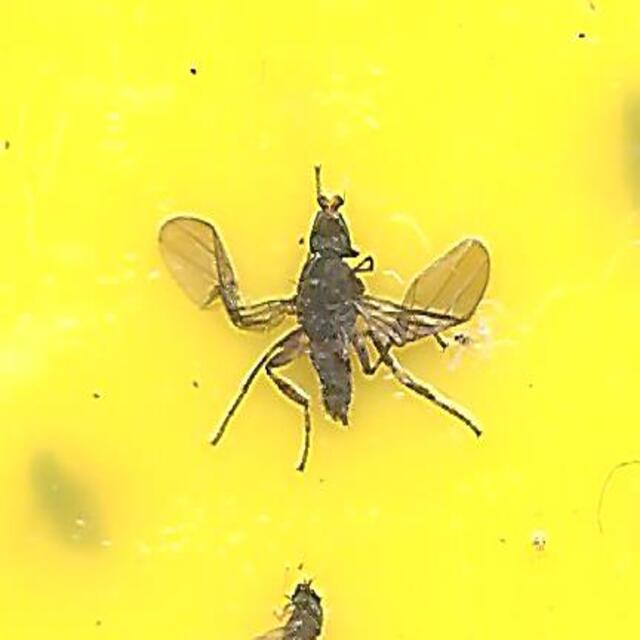Brachycera: (148, 187, 492, 453)
